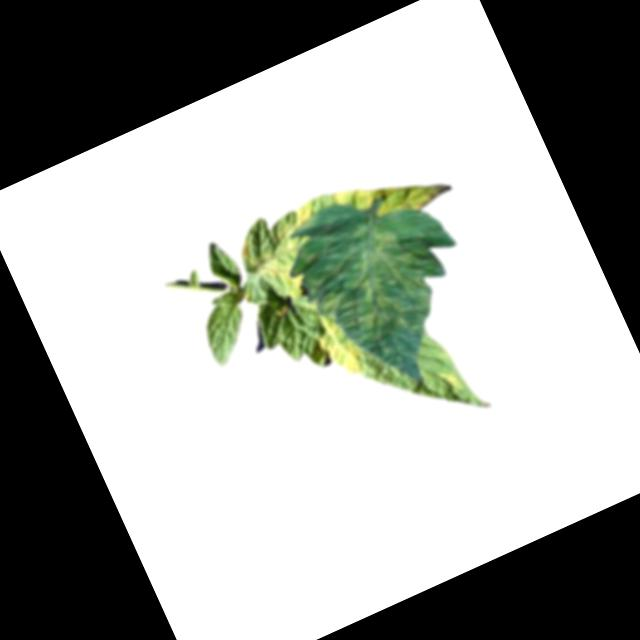Leaf_Mold: (315, 222, 441, 355), (330, 146, 457, 242), (308, 312, 365, 385), (252, 251, 309, 308), (288, 200, 319, 229)
